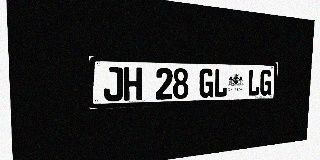2: (156, 68, 173, 100)
8: (173, 68, 189, 99)
G: (199, 68, 214, 98), (260, 69, 272, 96)
H: (124, 67, 142, 101)
J: (103, 67, 123, 102)
L: (213, 69, 228, 97), (247, 69, 260, 96)
